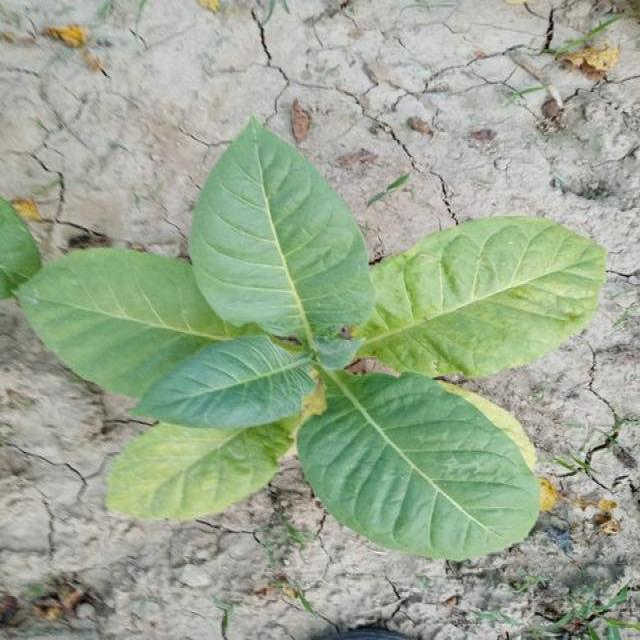crop: (22, 118, 596, 554)
